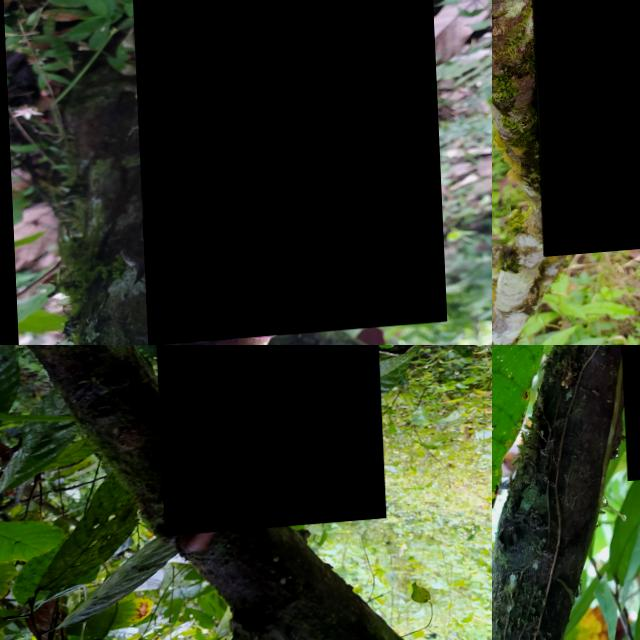Fitoftora: (525, 0, 640, 261)
Monilia: (128, 0, 442, 345), (151, 345, 382, 539)
